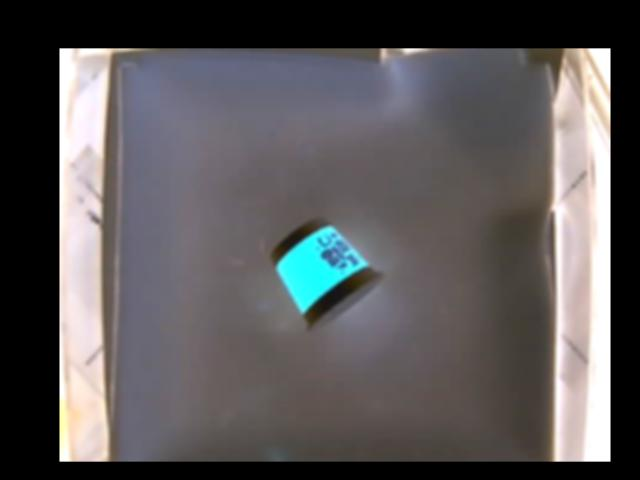Cup: (267, 219, 384, 329)
